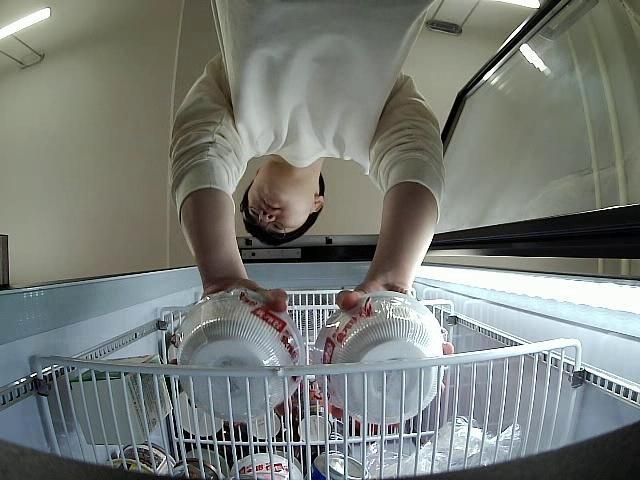09_yukGaeJang: (311, 296, 444, 422), (178, 292, 306, 422)
